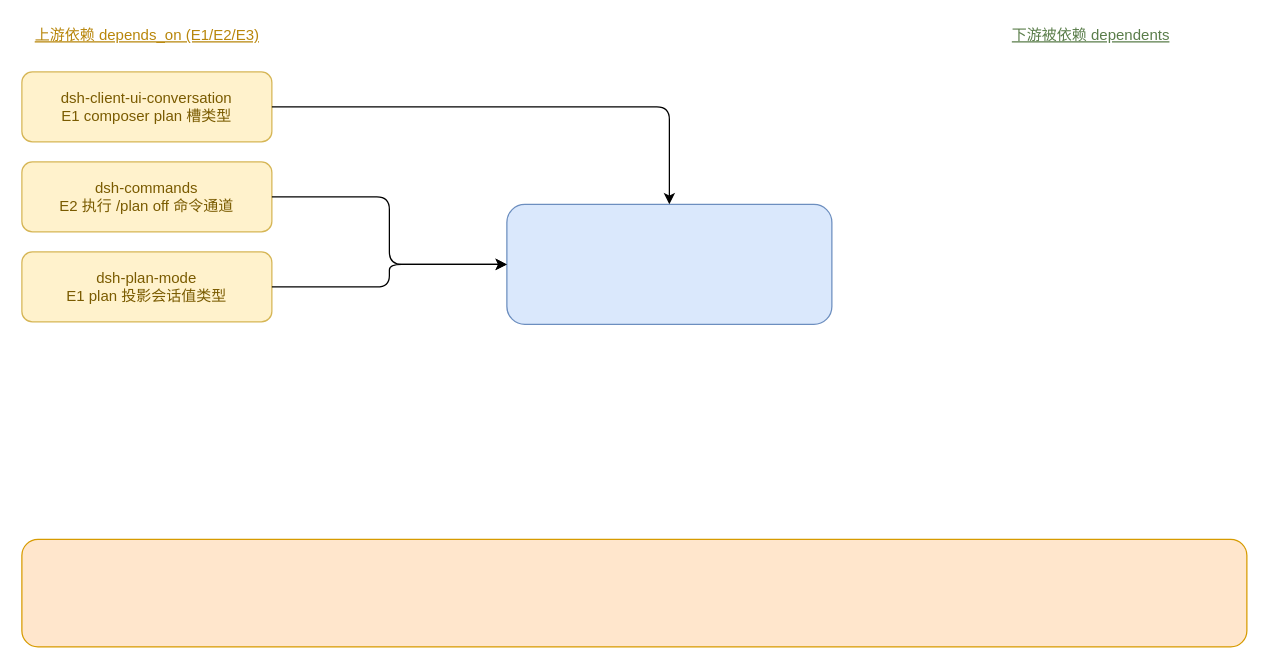
This 1269x669 diagram has some shape labels left out. The shapes that lost their labels are listed below. From the top down, each one's centre as x and y in pixels, then its label:
At (669,263): "dsh-client-ui-plan @deepseek-ai/dsh-client-ui-plan".
At (634,592): "provides 关键项 • conversation.input.plan 注入 'PlanChip' • plan 字典".
